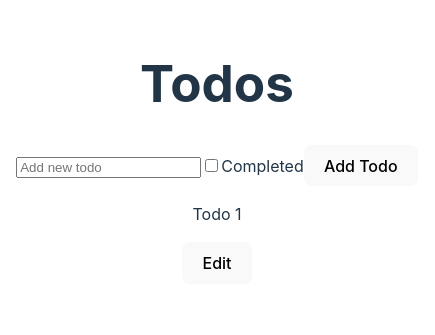
Scenario: Todos Component › adds a new todo after fetching existing todos
Expected: the text "Todo 1" is shown, [192,204,242,224]
Type "Todo 2" into the field with placeholder "Add new todo" at (109, 167), box [16,157,201,178]
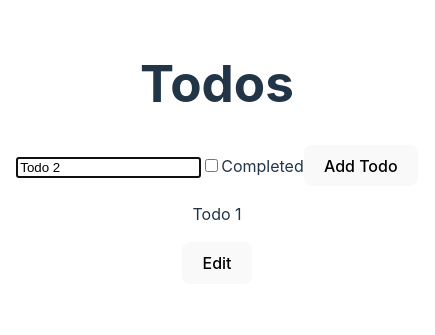
Click the button "Add Todo" at (361, 166), box [304,145,418,186]
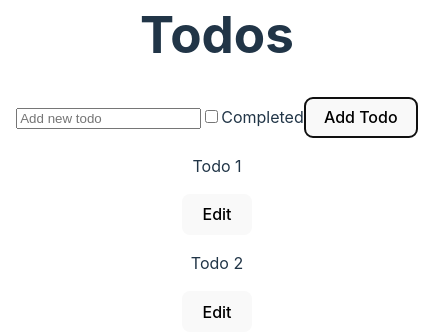
Now the text "Todo 2" is shown, box [191,253,243,273]
